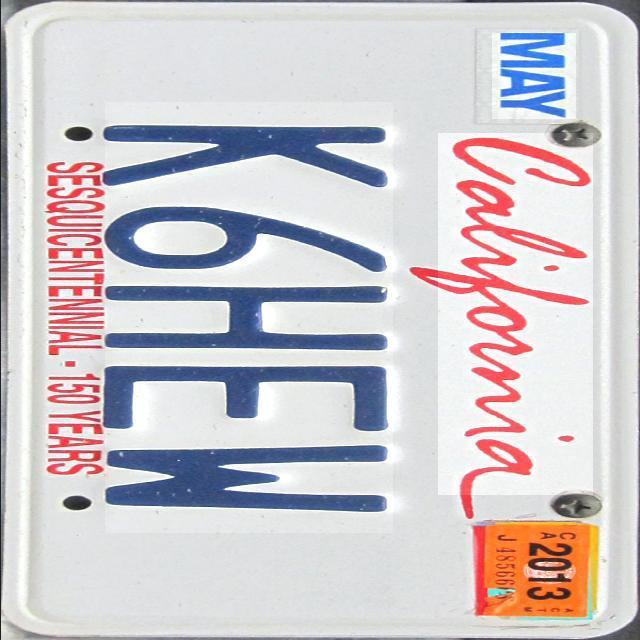Plat: (3, 2, 637, 640)
